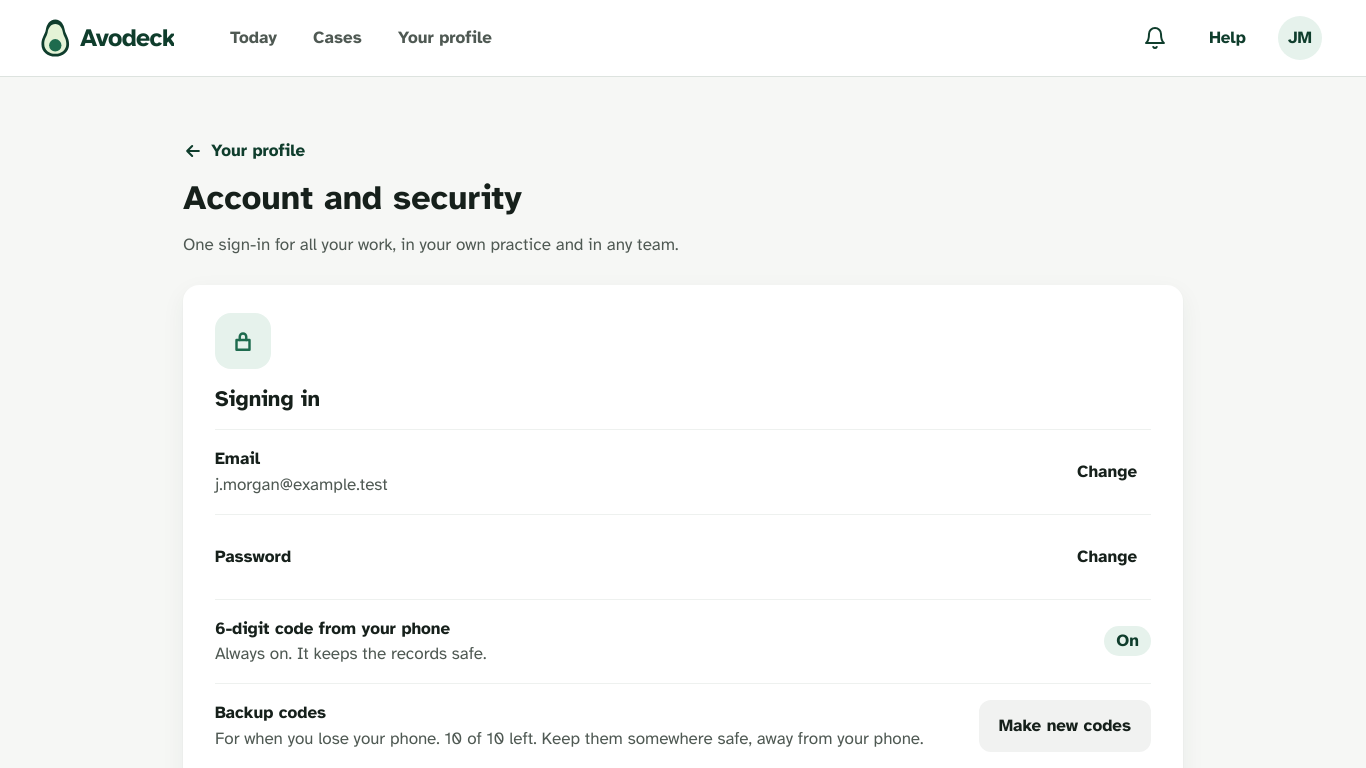
Test: changing password sends a link to choose a new one
Click the button with aria-label "Change password" at (1107, 556), box top-left (1063, 530), bottom-right (1151, 582)
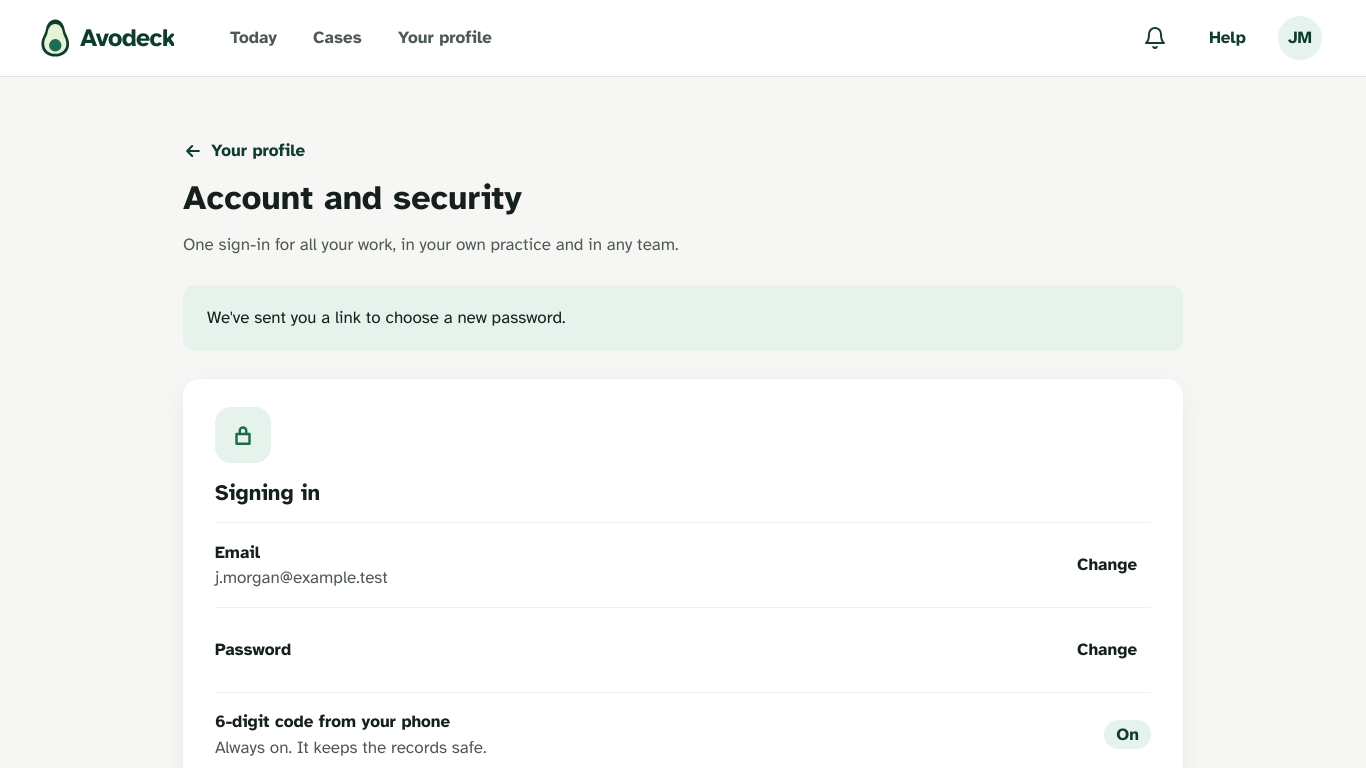
Expected: the text "We've sent you a link to choose a new password." is shown, top-left (207, 307), bottom-right (566, 328)
